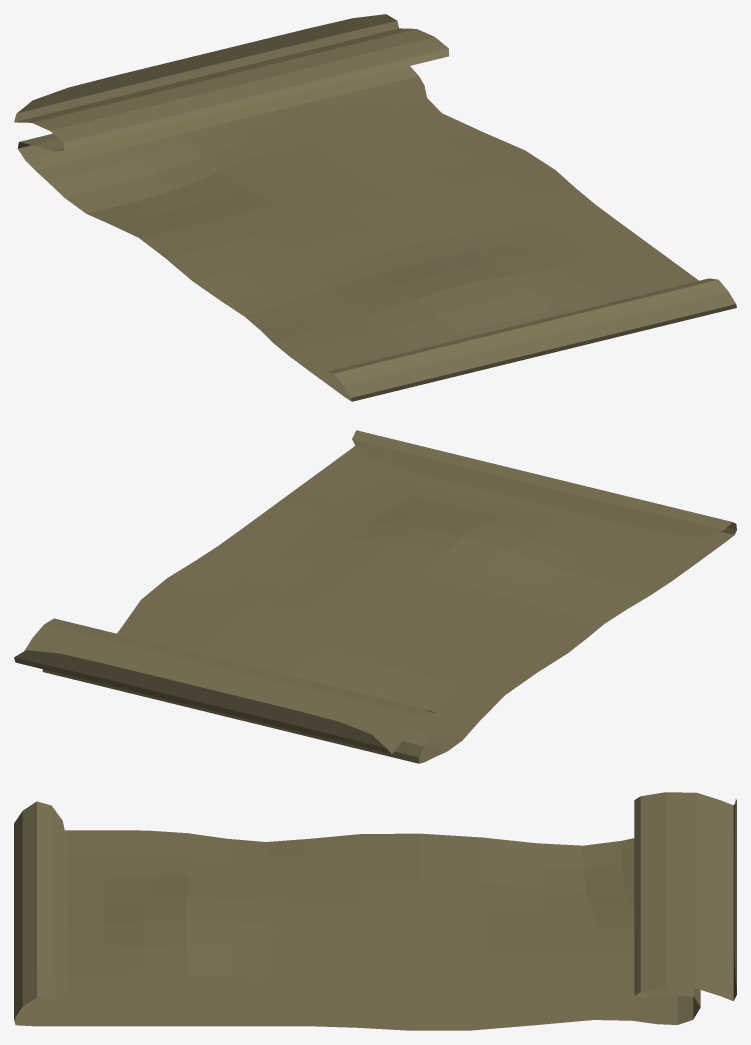
File: Rubbish Paper.fbx
The picture shows the model from 3 angles, top to bottom: view 1: azimuth 30°, elevation 25°; view 2: azimuth 150°, elevation 25°; view 3: azimuth 270°, elevation 25°; orthographic projection. The views are drawn at different scales.
Parts seen in each view (by area): view 1: Plane; view 2: Plane; view 3: Plane.
Part boxes in pixels (x1,y1,x2,y2): Plane: (14,14,736,401); Plane: (14,430,736,763); Plane: (14,792,736,1030).
Size of the model in its own units: 141 by 20.28 by 209.
